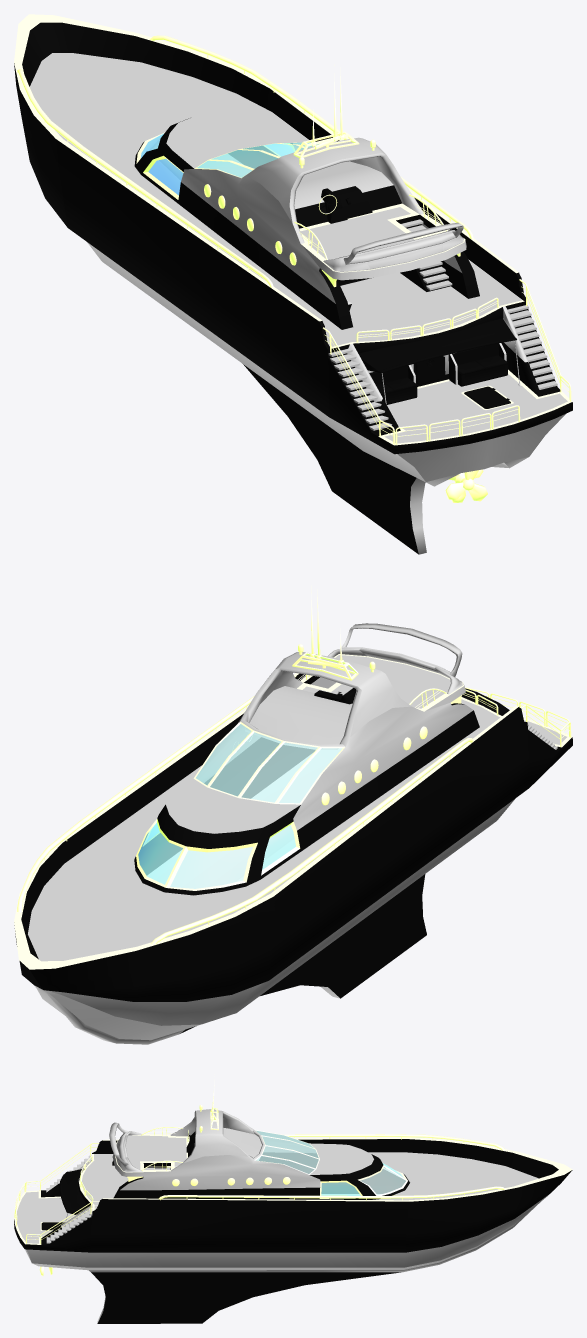
Rendered from Yacht.fbx.
3 renders of one model, top to bottom at view 1: azimuth 30°, elevation 25°; view 2: azimuth 150°, elevation 25°; view 3: azimuth 270°, elevation 25°, orthographic. The views are drawn at different scales.
Visible parts, largest first — view 1: generic_item; view 2: generic_item; view 3: generic_item.
Part boxes in pixels (<box>): generic_item: <box>14,14,572,554</box>; generic_item: <box>14,585,572,1044</box>; generic_item: <box>14,1074,572,1323</box>.
Bounding box in the file's own units: 4364 × 7993 × 16058.
